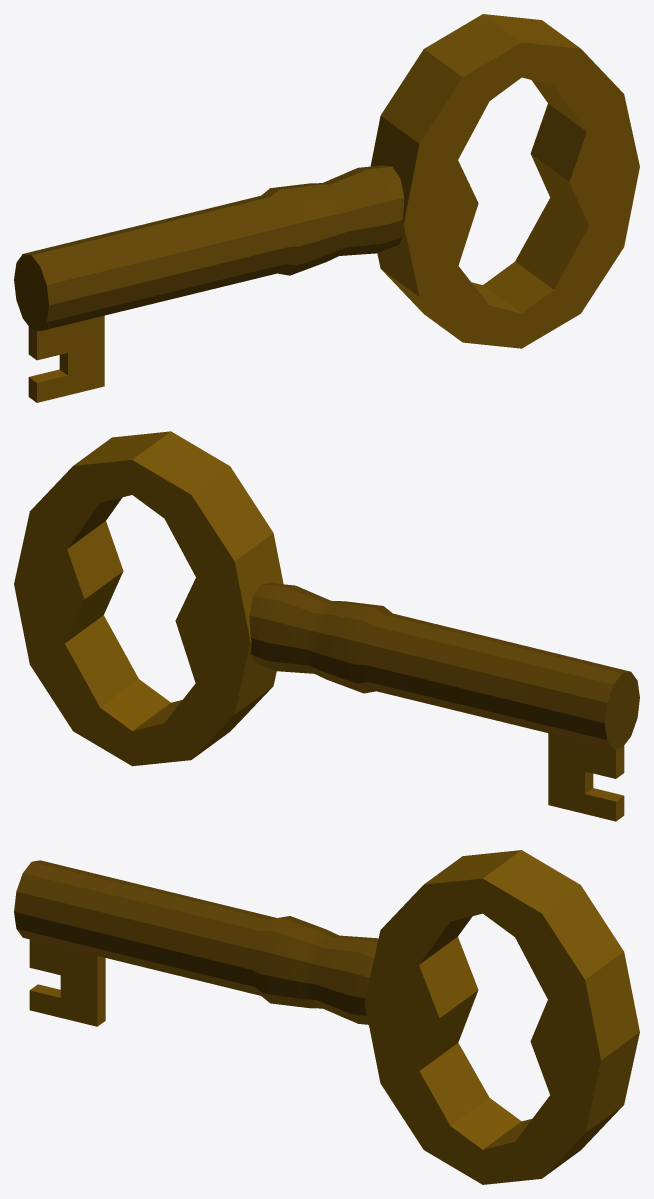
The model's file is KEY.fbx.
3 renders of one model, top to bottom at view 1: azimuth 30°, elevation 25°; view 2: azimuth 150°, elevation 25°; view 3: azimuth 330°, elevation 25°, orthographic.
Visible parts, largest first — view 1: polySurface1; view 2: polySurface1; view 3: polySurface1.
Boxes of the visible parts, left/top/right/bottom form: polySurface1: left=14, top=14, right=639, bottom=402; polySurface1: left=14, top=431, right=639, bottom=821; polySurface1: left=14, top=850, right=639, bottom=1184.
Bounding box in the file's own units: 3.19 × 1.59 × 0.3731.
